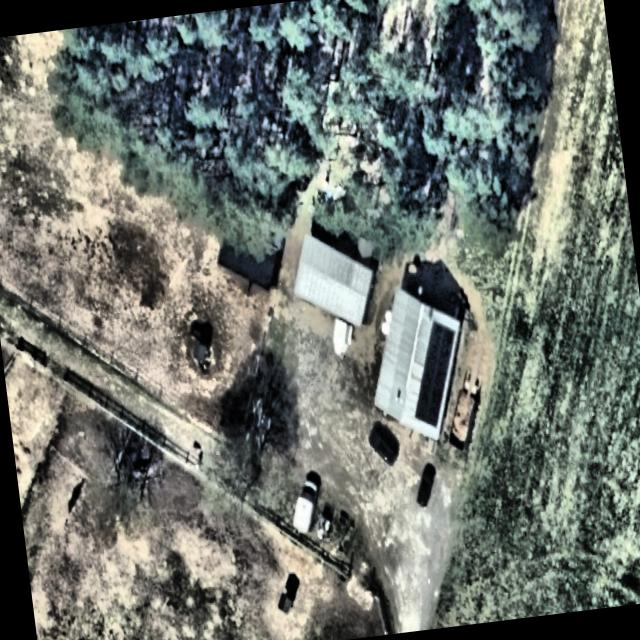roof_pv: (401, 319, 467, 435)
